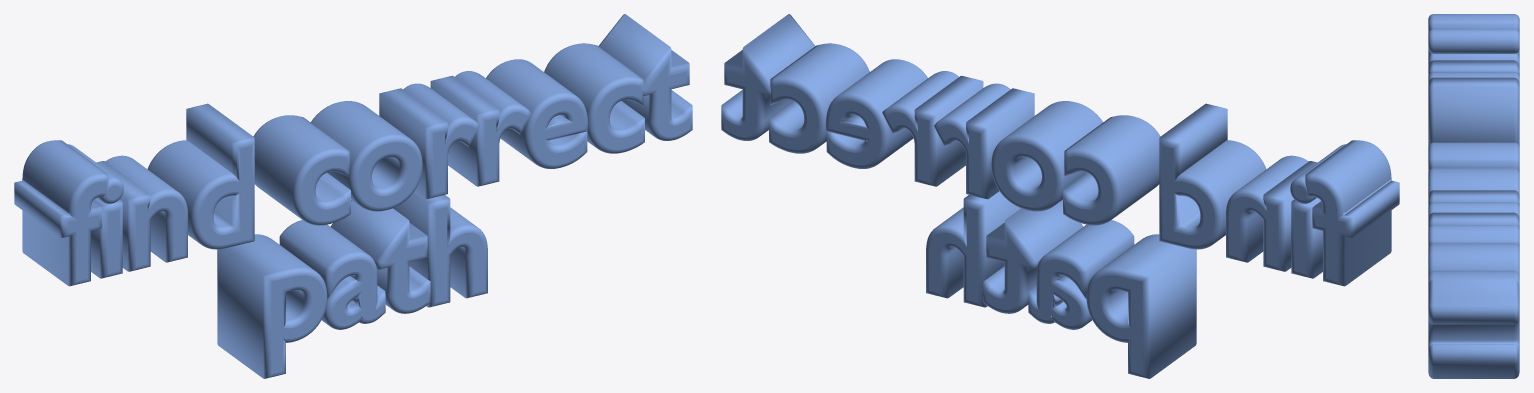
Rendered from hint3.glb.
3 renders of one model, left to right at view 1: azimuth 30°, elevation 25°; view 2: azimuth 150°, elevation 25°; view 3: azimuth 270°, elevation 25°, orthographic. The views are drawn at different scales.
Visible parts, largest first — view 1: Text; view 2: Text; view 3: Text.
Boxes of the visible parts, x1,y1,x2,y2 form: Text: (14,14,692,378); Text: (721,14,1399,378); Text: (1428,14,1519,378).
Size of the model in its own units: 4.86 by 1.8 by 0.68.
